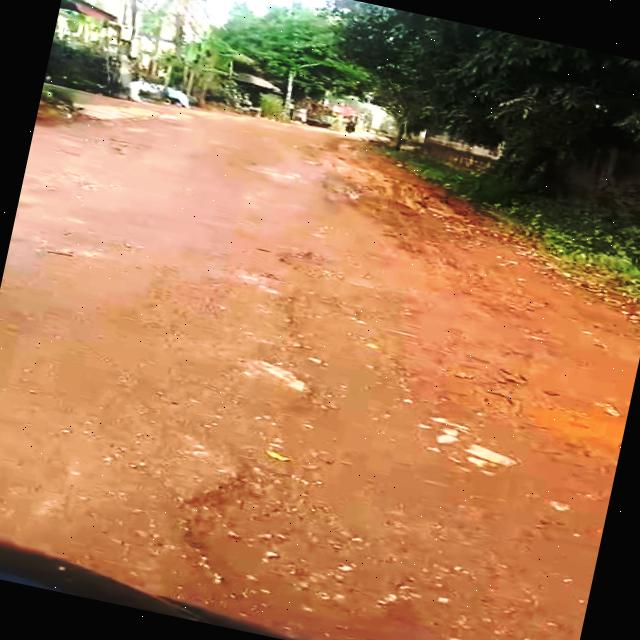pothole: (157, 458, 478, 640), (518, 394, 627, 468)
